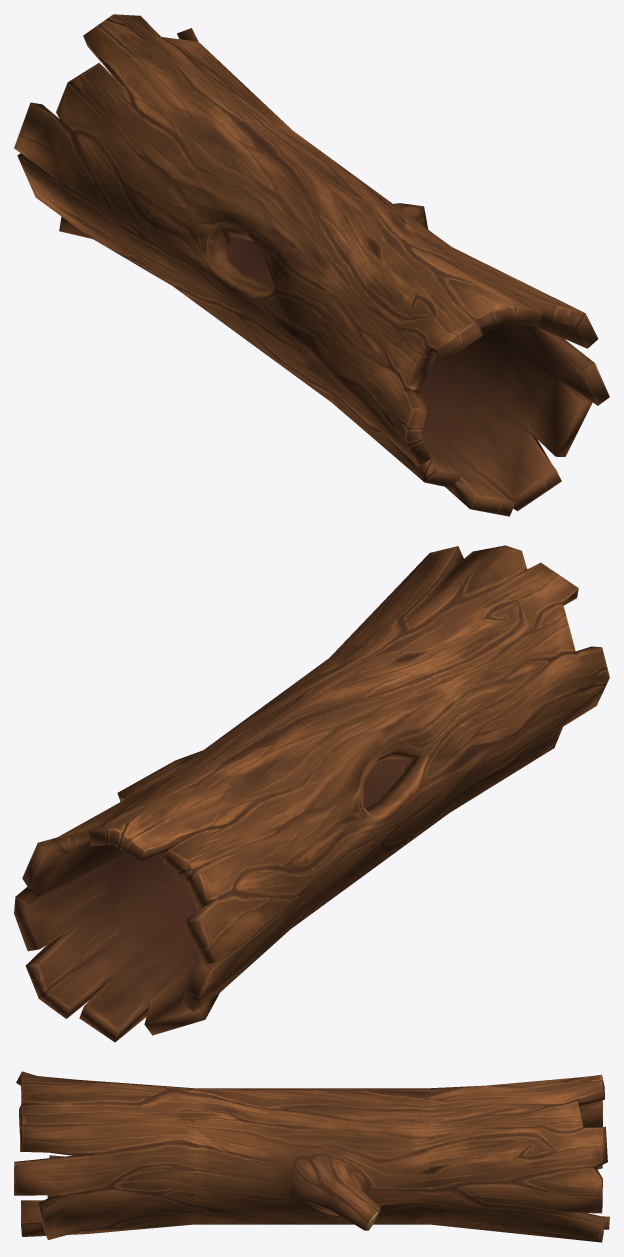
File: ppsTrunk.FBX
3 views of the same model, one above another, from view 1: azimuth 30°, elevation 25°; view 2: azimuth 150°, elevation 25°; view 3: azimuth 270°, elevation 25° (orthographic). The views are drawn at different scales.
Visible parts, largest first — view 1: ppsTrunk; view 2: ppsTrunk; view 3: ppsTrunk.
Boxes of the visible parts, x1,y1,x2,y2 form: ppsTrunk: (14,14,609,516); ppsTrunk: (14,545,609,1042); ppsTrunk: (14,1071,609,1242).
Size of the model in its own units: 151 by 121 by 411.
